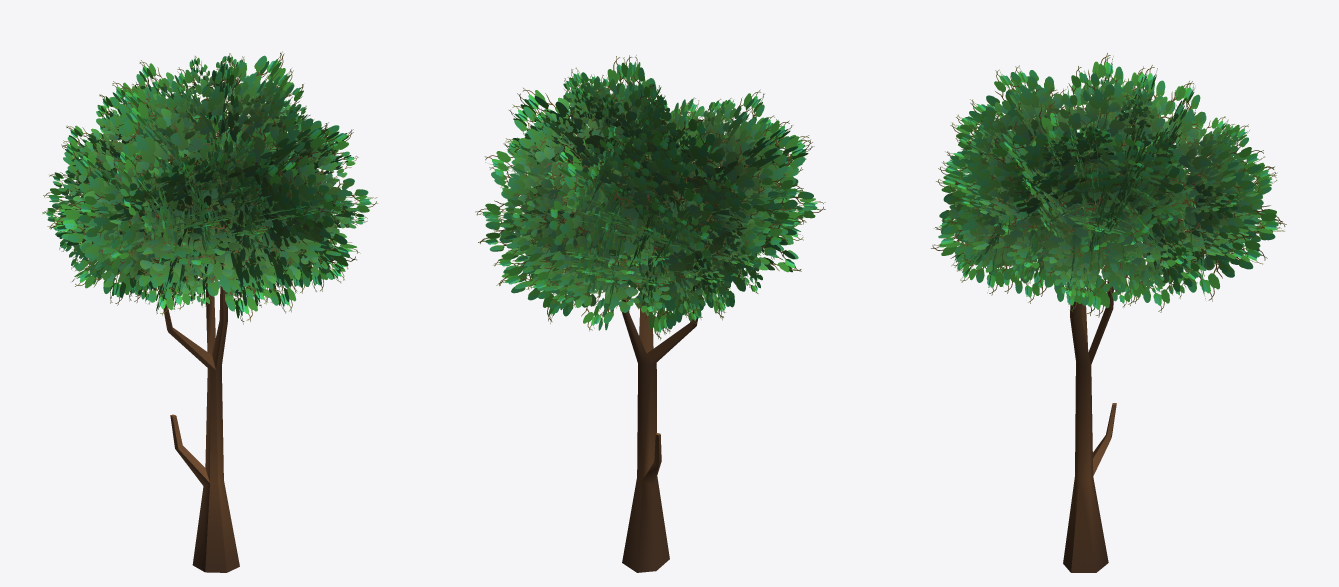
File: Tree_1E.fbx
The picture shows the model from 3 angles, left to right: view 1: azimuth 30°, elevation 25°; view 2: azimuth 150°, elevation 25°; view 3: azimuth 270°, elevation 25°; orthographic projection.
Parts seen in each view (by area): view 1: Tree_1E; view 2: Tree_1E; view 3: Tree_1E.
Boxes of the visible parts, bbox=[...] form: Tree_1E: bbox=[42, 51, 377, 572]; Tree_1E: bbox=[475, 55, 825, 572]; Tree_1E: bbox=[931, 53, 1286, 572].
Bounding box in the file's own units: 3.51 × 5.03 × 3.67.
